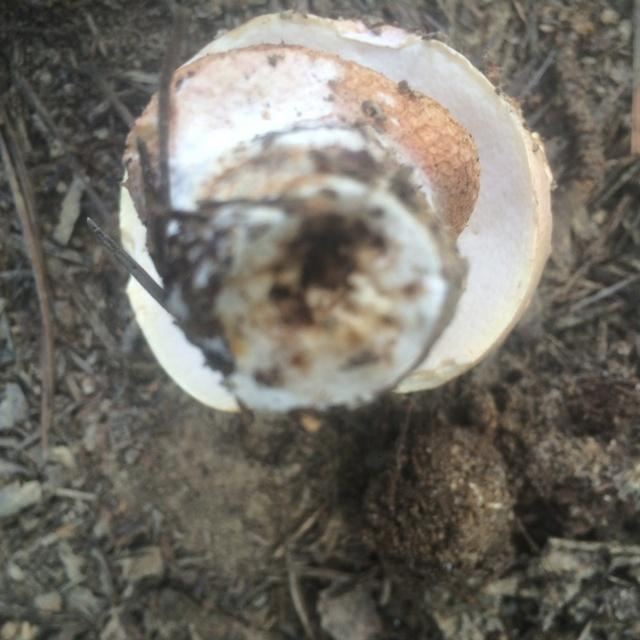poisonous_mushroom: (93, 9, 555, 417)
